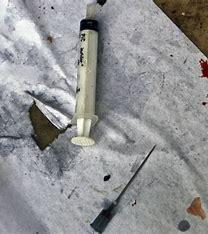Syringe: (85, 140, 161, 228), (70, 1, 104, 148)
